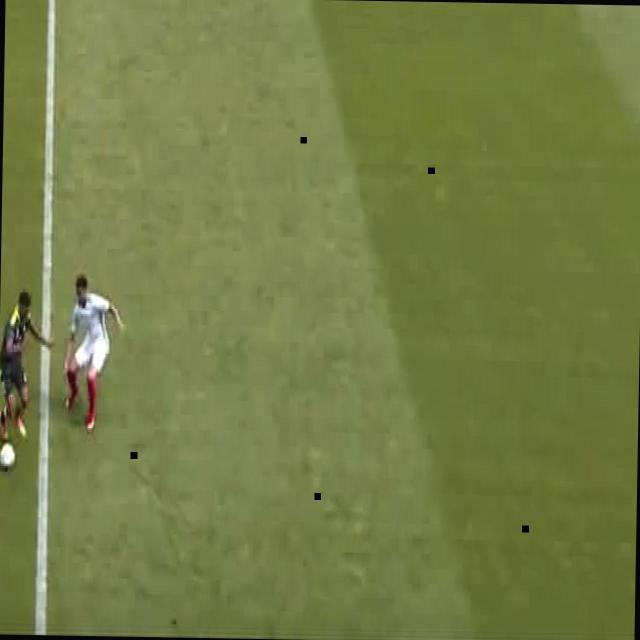ball: (0, 441, 16, 472)
player-white: (61, 275, 125, 435), (0, 290, 58, 440)
